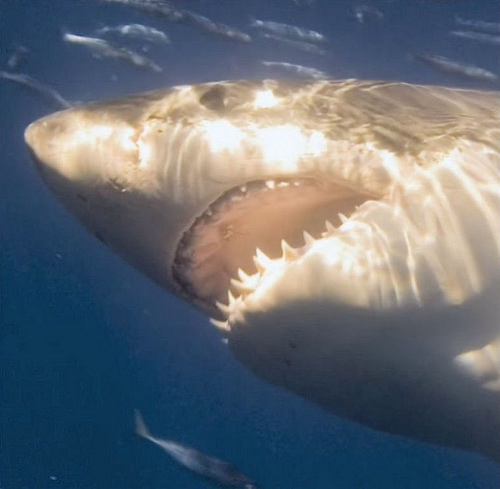shark: (15, 41, 496, 470)
